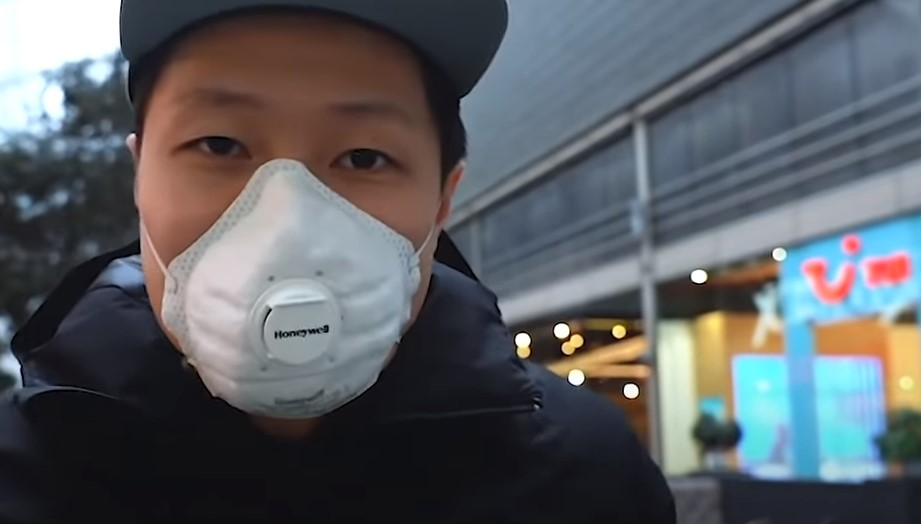face_with_mask: (119, 0, 510, 437)
